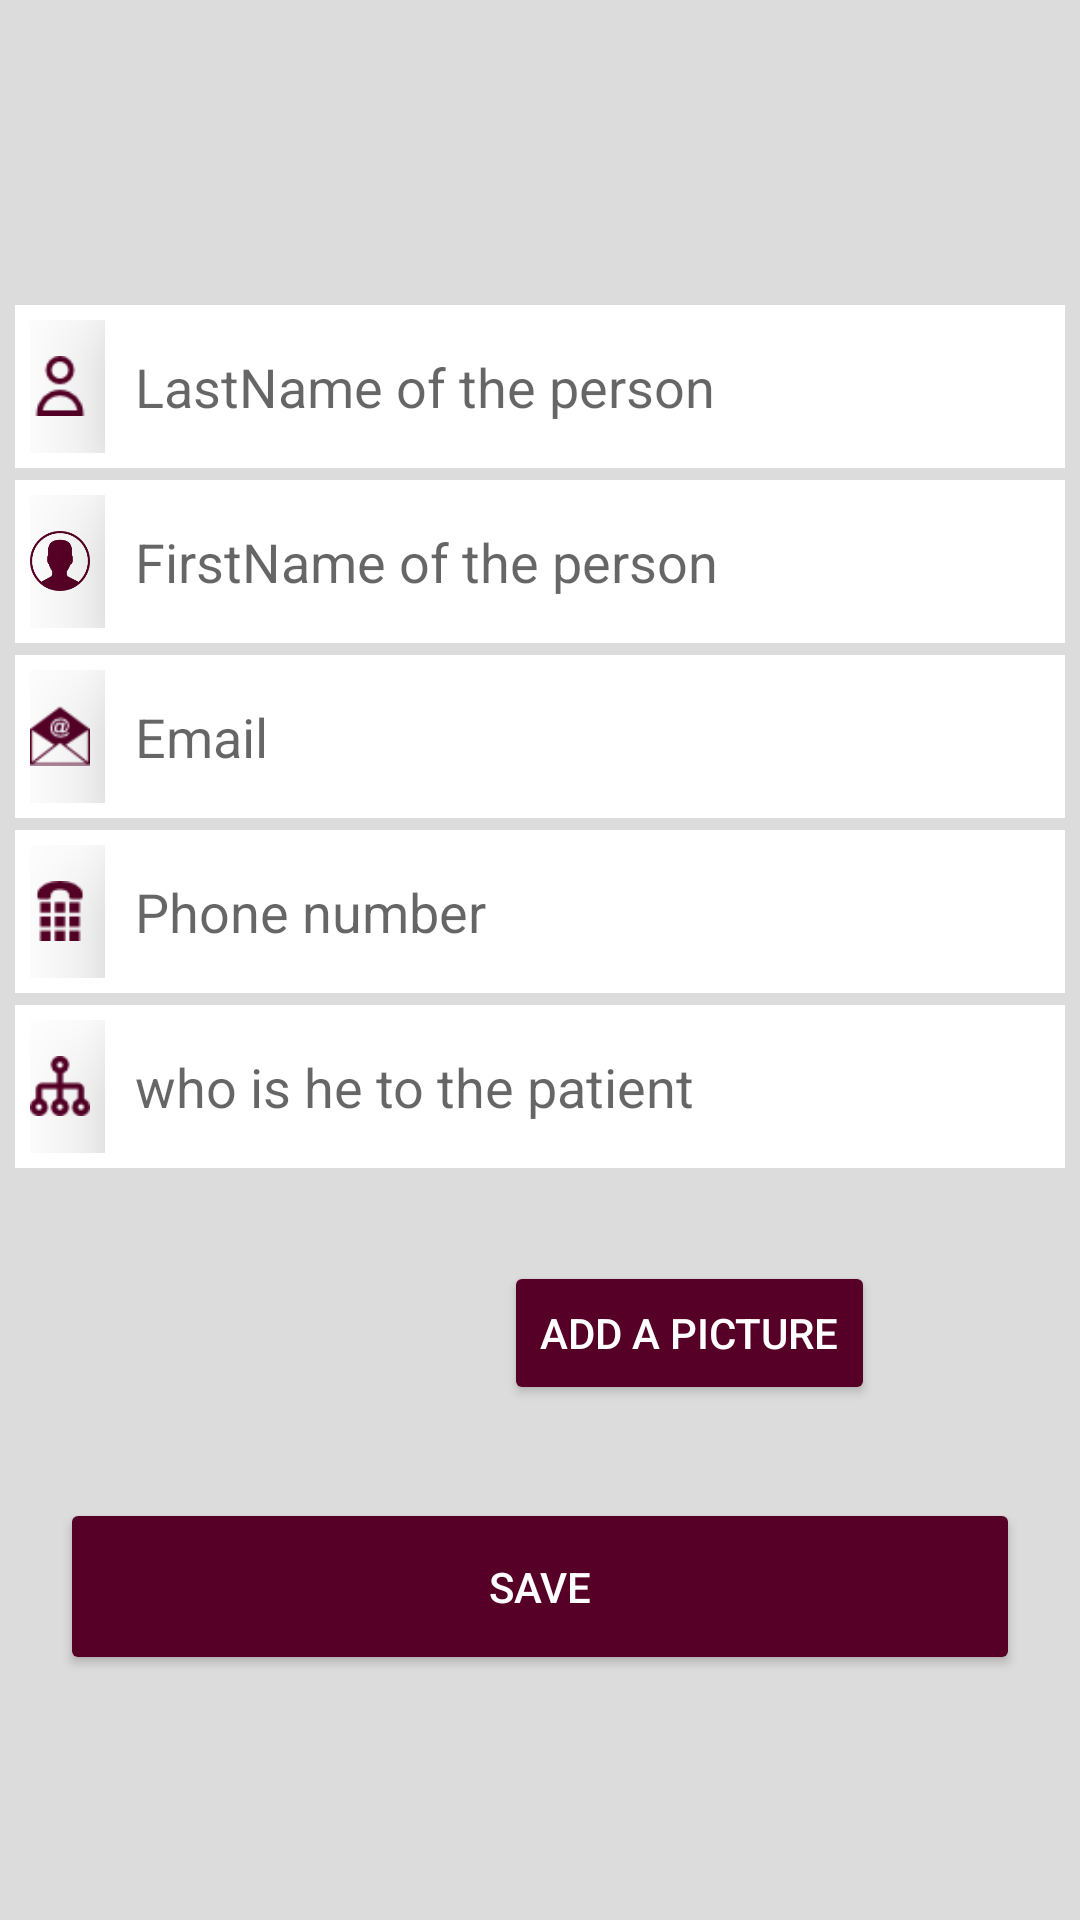

Screen size 1080 x 1920. Icon name, then its box in pixels as region(x1, y1, x2, y2):
family tree: region(30, 1056, 90, 1116)
user: region(35, 356, 90, 416), region(30, 531, 90, 591)
